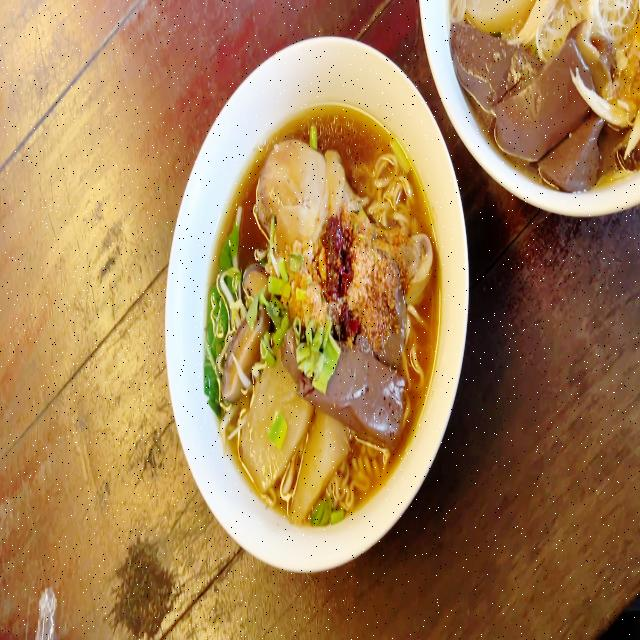boiled_chicken_blood_jelly: (456, 32, 602, 183), (318, 339, 406, 431)
chicken_drumstick: (261, 140, 427, 284)
chicken_shredded: (578, 76, 631, 127)
daikon_radish: (242, 362, 344, 502), (468, 0, 537, 31)
noodle: (196, 97, 442, 503), (443, 0, 640, 209)
